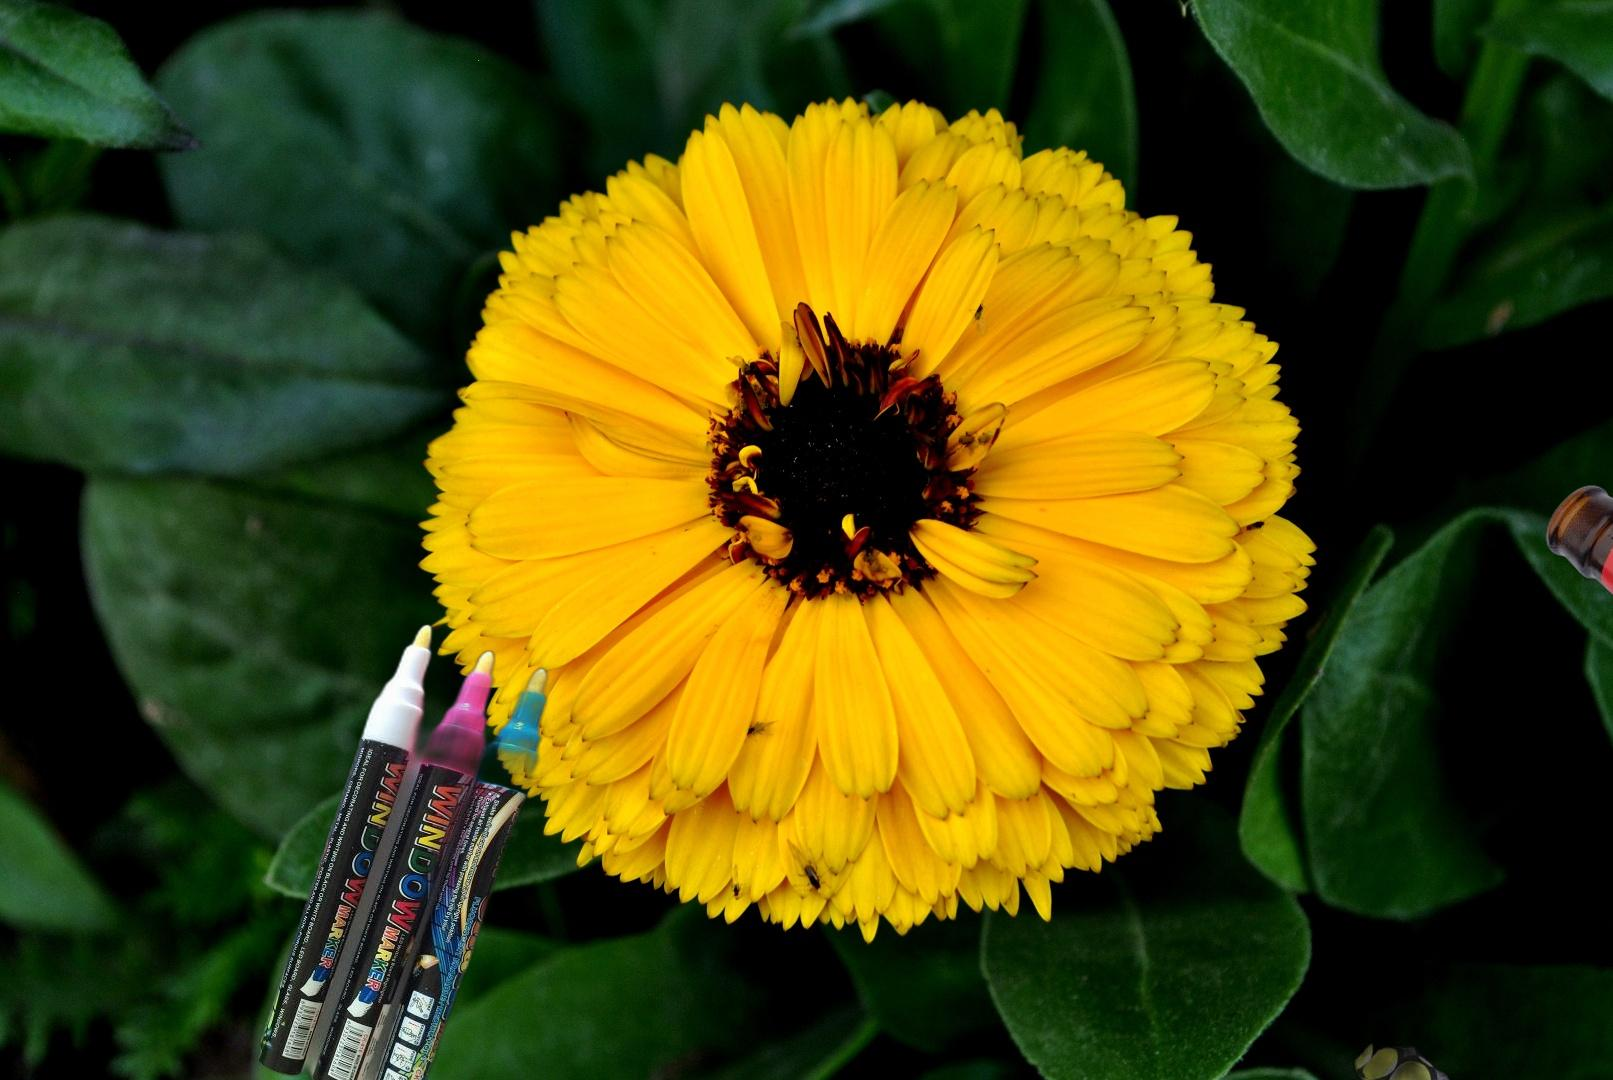clothes: (1310, 1038, 1613, 1080)
glass: (1542, 483, 1613, 765)
penholder: (251, 575, 605, 1080)
